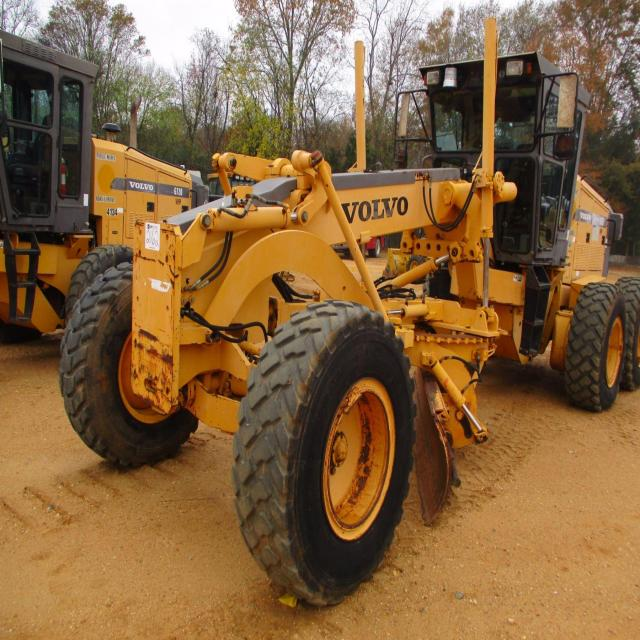Grader: (38, 43, 640, 611)
